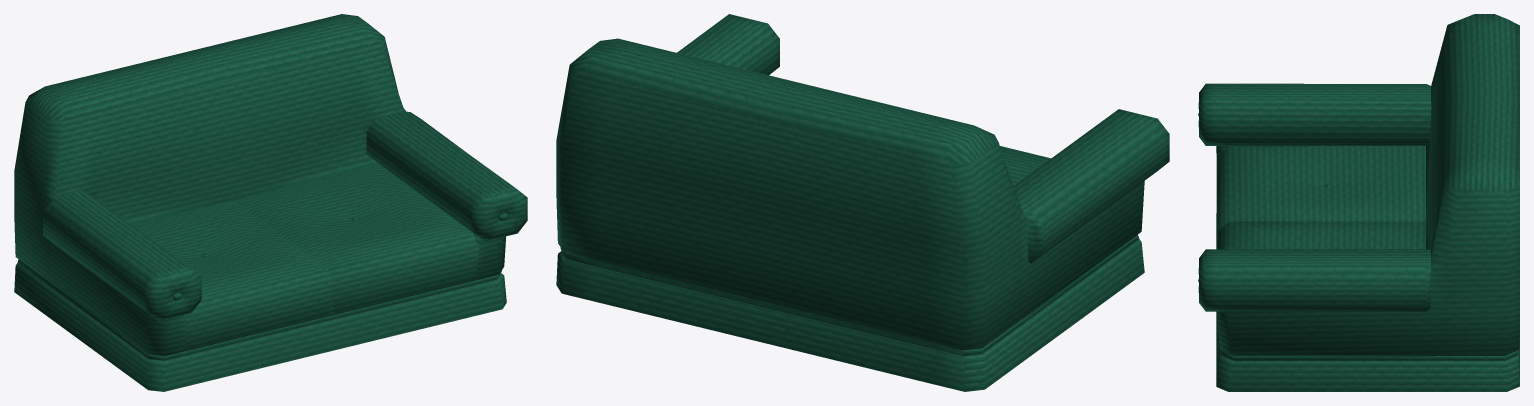
File: Couch.FBX
The picture shows the model from 3 angles, left to right: view 1: azimuth 30°, elevation 25°; view 2: azimuth 150°, elevation 25°; view 3: azimuth 270°, elevation 25°; orthographic projection. The views are drawn at different scales.
Visible parts, largest first — view 1: Couch; view 2: Couch; view 3: Couch.
Boxes of the visible parts, x1=… form: Couch: x1=14, y1=14, x2=527, y2=391; Couch: x1=556, y1=14, x2=1169, y2=391; Couch: x1=1198, y1=14, x2=1519, y2=391.
Bounding box in the file's own units: 180 × 91.56 × 127.
Materials: 1 (1 with a texture image).
